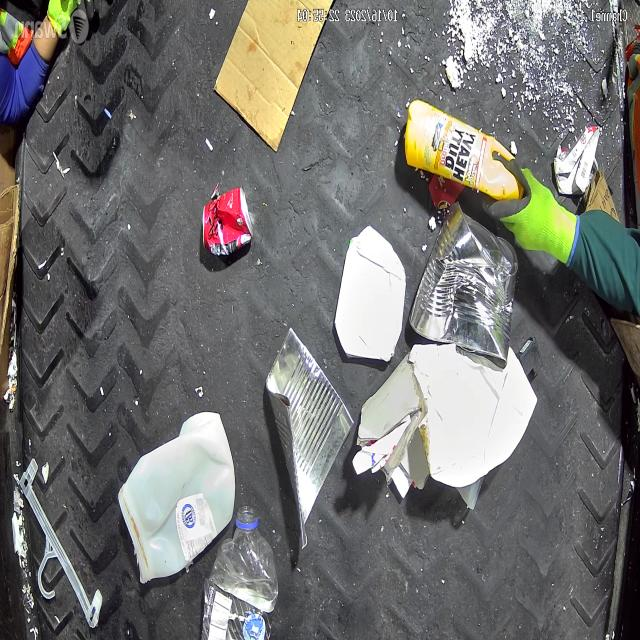can: (265, 326, 354, 552), (408, 198, 520, 369), (202, 185, 253, 256)
milk_jug: (118, 412, 236, 585)
non_white_jug: (404, 99, 524, 198)
plastic_bottle: (202, 506, 278, 640)
